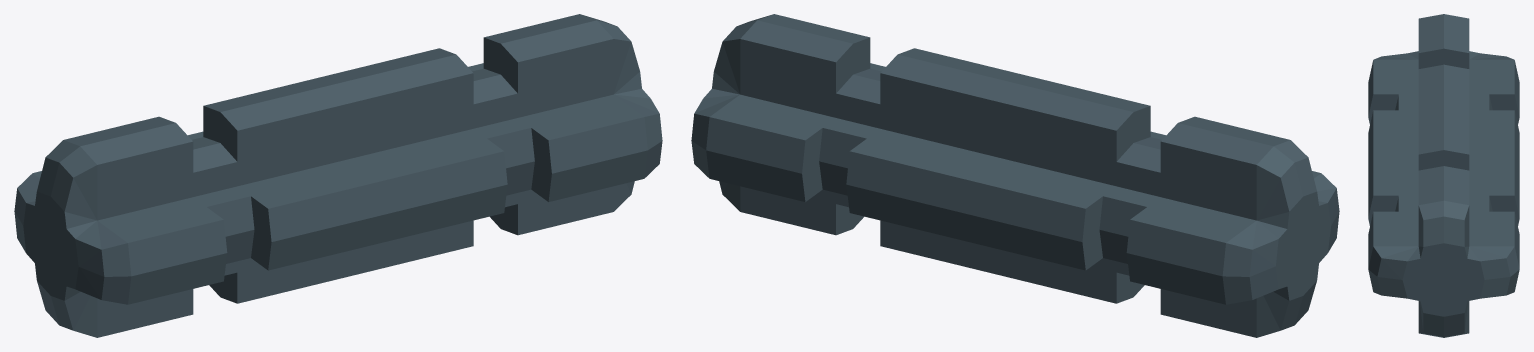
3 views of the same model, side by side, from view 1: azimuth 30°, elevation 25°; view 2: azimuth 150°, elevation 25°; view 3: azimuth 270°, elevation 25° (orthographic). The views are drawn at different scales.
Visible parts, largest first — view 1: world; view 2: world; view 3: world.
Boxes of the visible parts, x1=… form: world: x1=14, y1=14, x2=662, y2=337; world: x1=691, y1=14, x2=1339, y2=337; world: x1=1368, y1=14, x2=1519, y2=337.
Bounding box in the file's own units: 0.0156 × 0.0048 × 0.0048.
